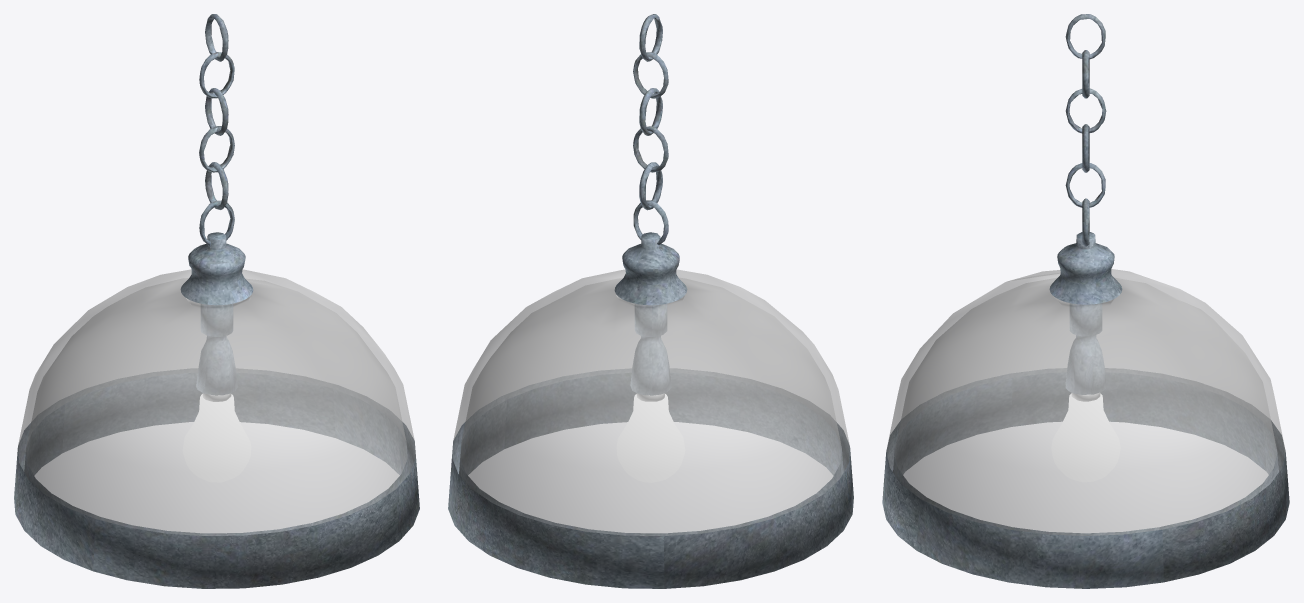
Rendered from ceiling_light_with_chain.glb.
3 renders of one model, left to right at view 1: azimuth 30°, elevation 25°; view 2: azimuth 150°, elevation 25°; view 3: azimuth 270°, elevation 25°, orthographic.
Visible parts, largest first — view 1: Ceiling Light, Light Bulb; view 2: Ceiling Light, Light Bulb; view 3: Ceiling Light, Light Bulb.
Part boxes in pixels (x1,y1,x2,y2): Ceiling Light: (14,14,419,588); Light Bulb: (183,393,250,482); Ceiling Light: (448,14,853,588); Light Bulb: (617,393,684,482); Ceiling Light: (882,14,1289,588); Light Bulb: (1051,392,1120,481).
Bounding box in the file's own units: 6.94 × 9.2 × 6.94.
5 materials, 1 textured.
